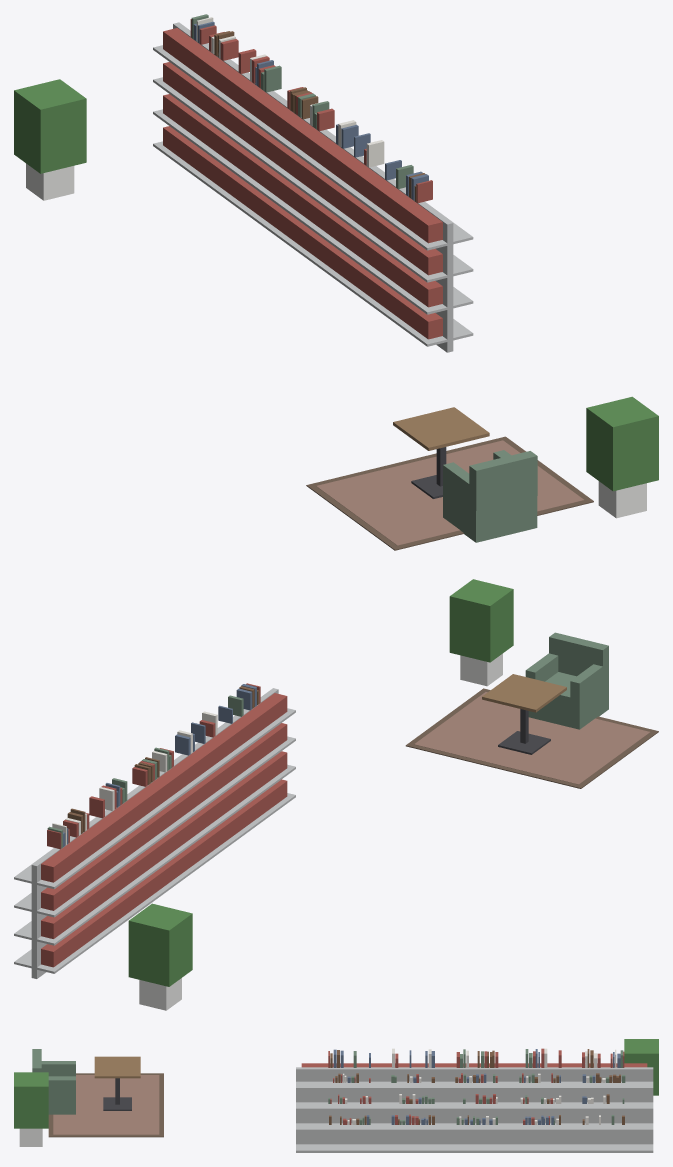
Rendered from fine-s1.glb.
The picture shows the model from 3 angles, top to bottom: view 1: azimuth 30°, elevation 25°; view 2: azimuth 150°, elevation 25°; view 3: azimuth 270°, elevation 25°; orthographic projection. The views are drawn at different scales.
Visible parts, largest first — view 1: soft-s1, shelving.004, shelving.000, shelving.003, shelving.001, shelving.002, plant-medium.001, plant-medium.000, sofa.000, coffee-table.000; view 2: soft-s1, shelving.000, shelving.004, shelving.001, shelving.002, plant-medium.000, plant-medium.001, shelving.003, sofa.000, coffee-table.000; view 3: soft-s1, shelving.000, shelving.004, shelving.003, shelving.001, shelving.002, plant-medium.000, sofa.000, coffee-table.000, plant-medium.001.
Part boxes in pixels (<box>): soft-s1: <box>190,14,593,550</box>; shelving.004: <box>347,166,473,352</box>; shelving.000: <box>153,22,278,203</box>; shelving.003: <box>299,130,395,310</box>; shelving.001: <box>201,61,326,239</box>; shelving.002: <box>250,93,363,275</box>; plant-medium.001: <box>14,79,86,200</box>; plant-medium.000: <box>586,396,658,518</box>; sofa.000: <box>443,450,537,542</box>; coffee-table.000: <box>393,407,489,498</box>; soft-s1: <box>47,683,658,849</box>; shelving.000: <box>14,814,124,978</box>; shelving.004: <box>195,688,295,847</box>; shelving.001: <box>84,785,167,940</box>; shelving.002: <box>105,754,210,910</box>; plant-medium.000: <box>449,579,513,686</box>; plant-medium.001: <box>128,903,192,1010</box>; shelving.003: <box>167,721,253,872</box>; sofa.000: <box>525,632,608,729</box>; coffee-table.000: <box>482,674,566,754</box>; soft-s1: <box>48,1048,625,1137</box>; shelving.000: <box>549,1063,653,1152</box>; shelving.004: <box>296,1063,399,1152</box>; shelving.003: <box>359,1063,462,1152</box>; shelving.001: <box>486,1063,589,1152</box>; shelving.002: <box>422,1063,526,1152</box>; plant-medium.000: <box>14,1072,48,1146</box>; sofa.000: <box>32,1049,75,1114</box>; coffee-table.000: <box>94,1056,140,1110</box>; plant-medium.001: <box>624,1039,658,1095</box>.
Size of the model in its own units: 3.5 by 1.93 by 11.19.
